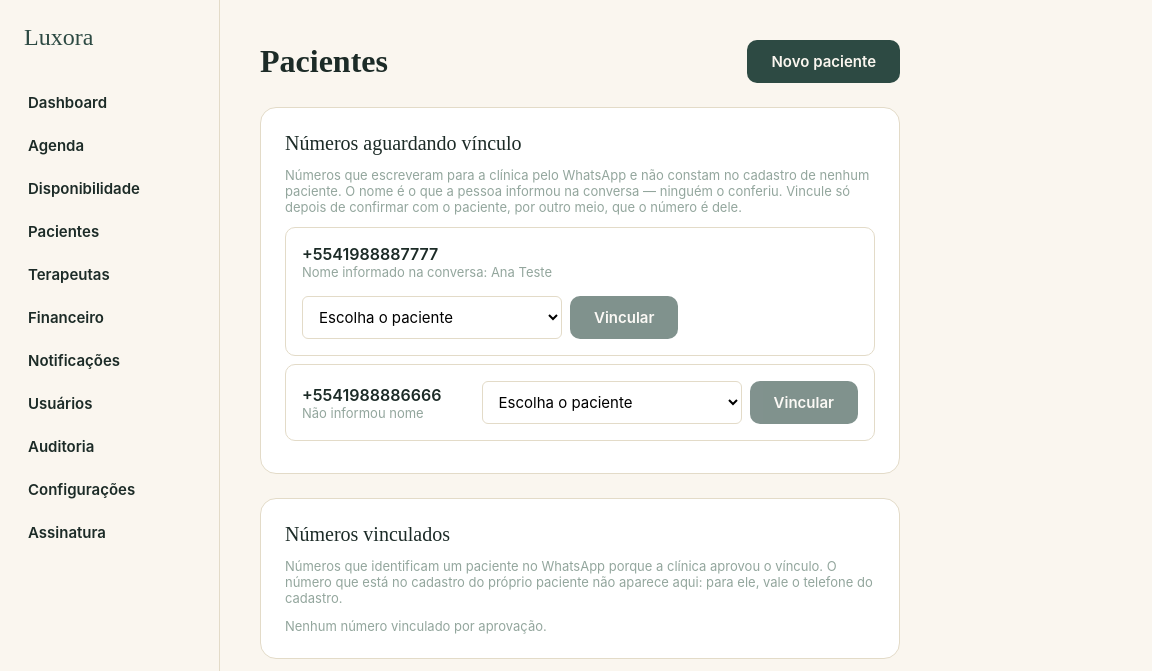
Test case: PacientesPage — números aguardando vínculo (ADR-0063, AD-038) › aprovar envia o contato e o paciente escolhido, confirma na tela e tira o número da lista
Expected: the text "+5541988887777" is shown, [302,244,438,264]
Select "Bruno Teste — +5541900000002" in the dropdown named "Paciente para o número +5541988887777". click: (432, 318)
box: [302,296,562,339]
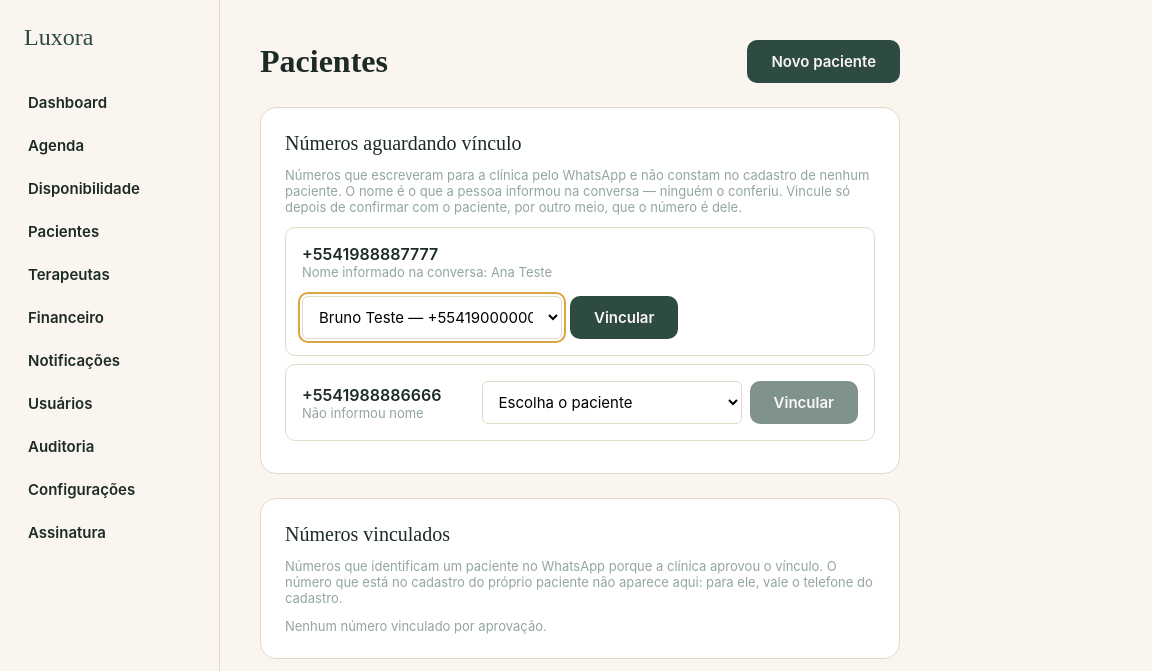
Click the button "Vincular" below "+5541988887777". click: (624, 318)
box: [570,296,678,339]
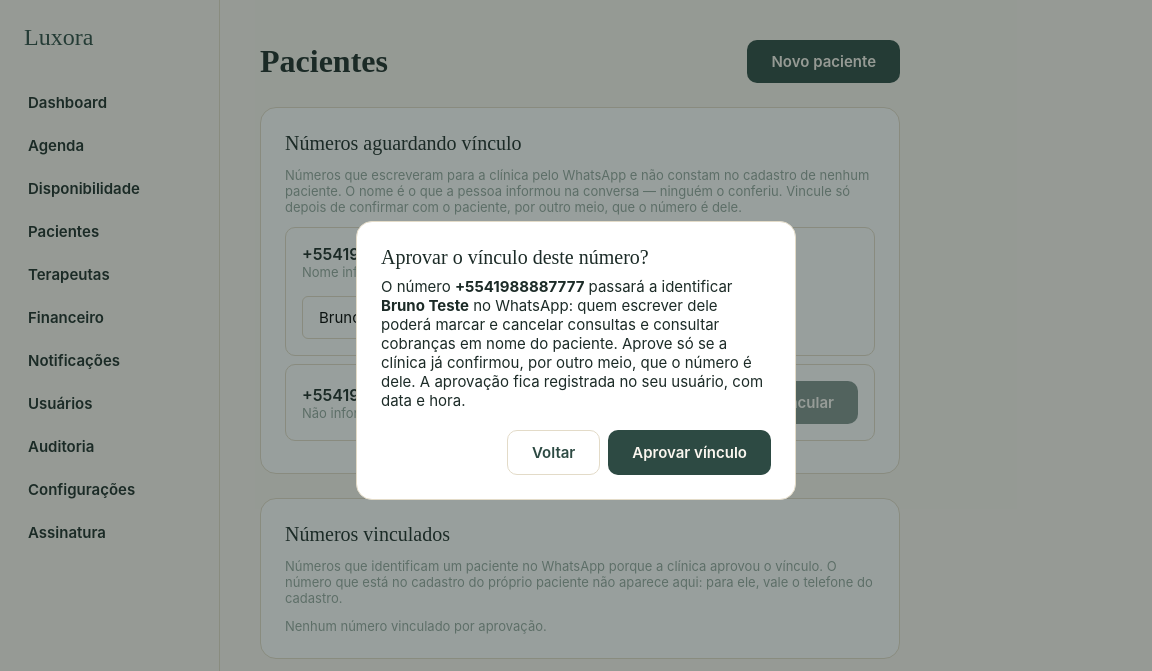
Click the button "Aprovar vínculo". click: (690, 452)
box: [608,430,771,474]
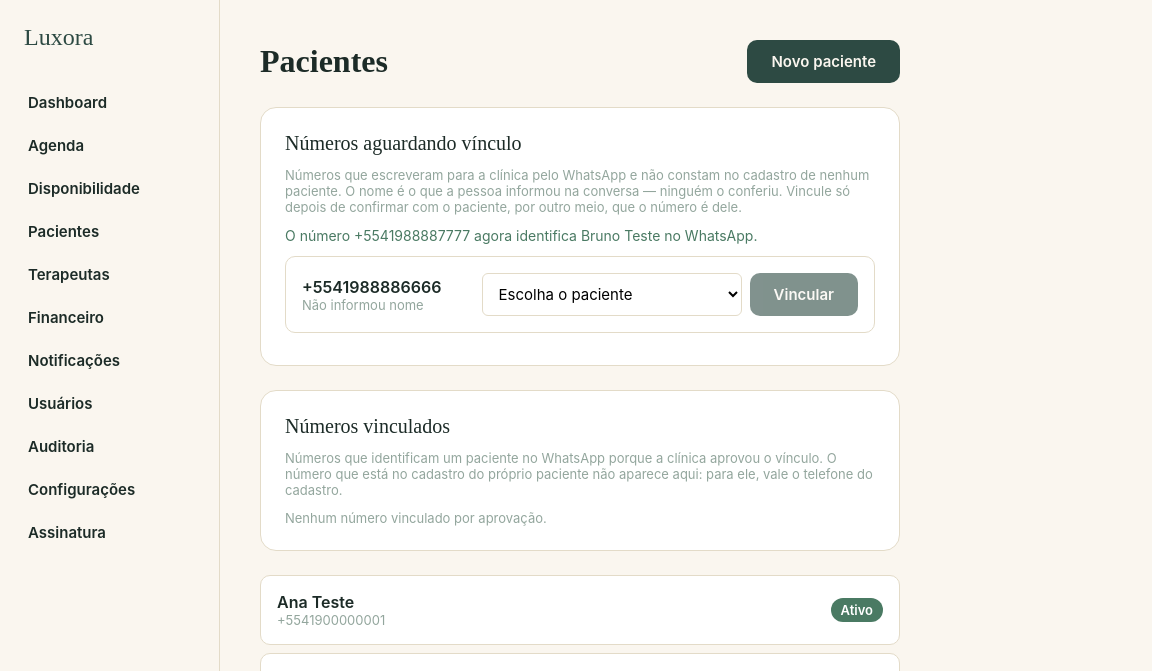
Expected: the text "+5541988886666" is shown, [302,276,441,296]
Expected: the message reads "O número +5541988887777 agora identifica Bruno Teste no WhatsApp.", [285,227,758,244]
Expected: the dialog is gone
